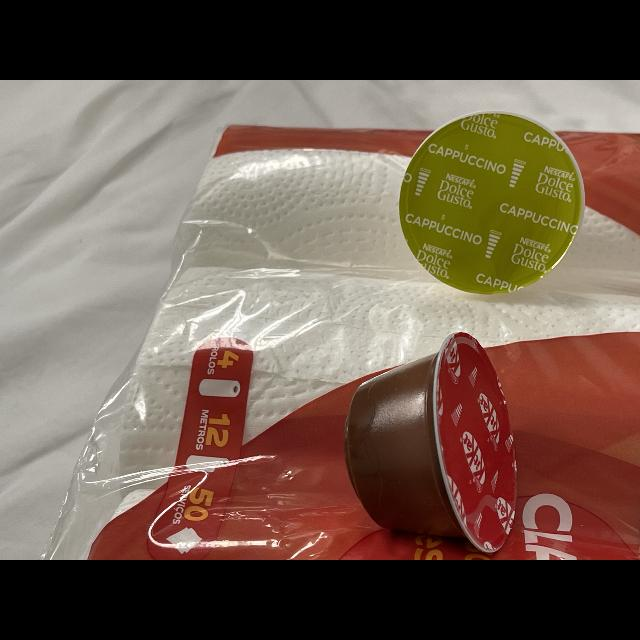intact_capsule: (331, 326, 531, 560), (390, 103, 596, 304)
